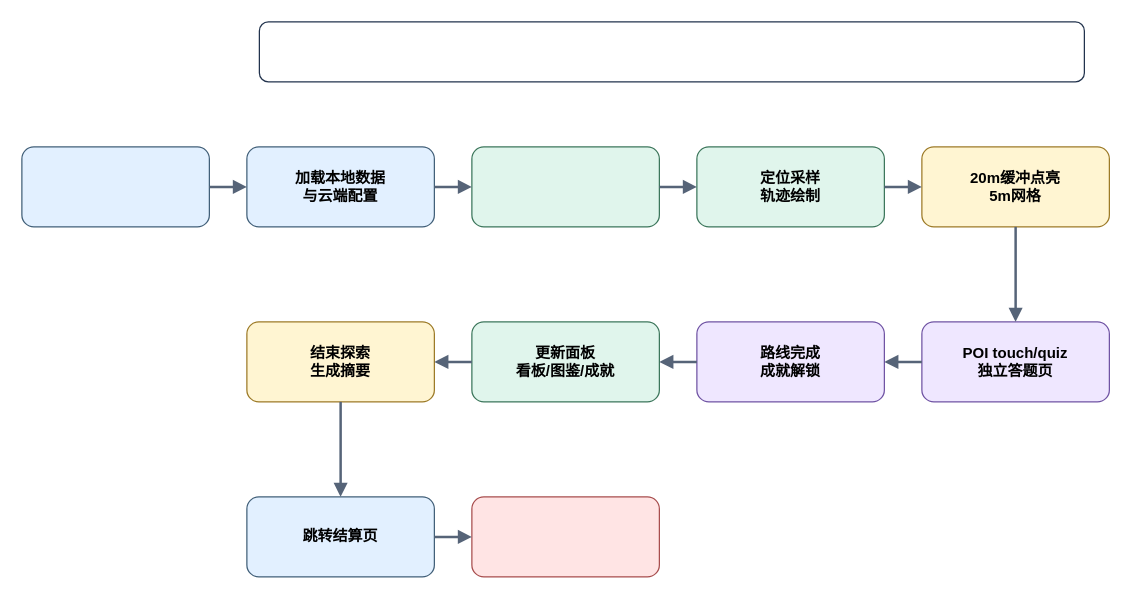
This 1131x599 diagram has some shape labels left out. Each missing label, with the centre of its shape:
业务流程图: the point at 671,51
同步云端 历史/排行回看: the point at 565,536
开始探索: the point at 565,186
打开小程序 授权定位: the point at 115,186
